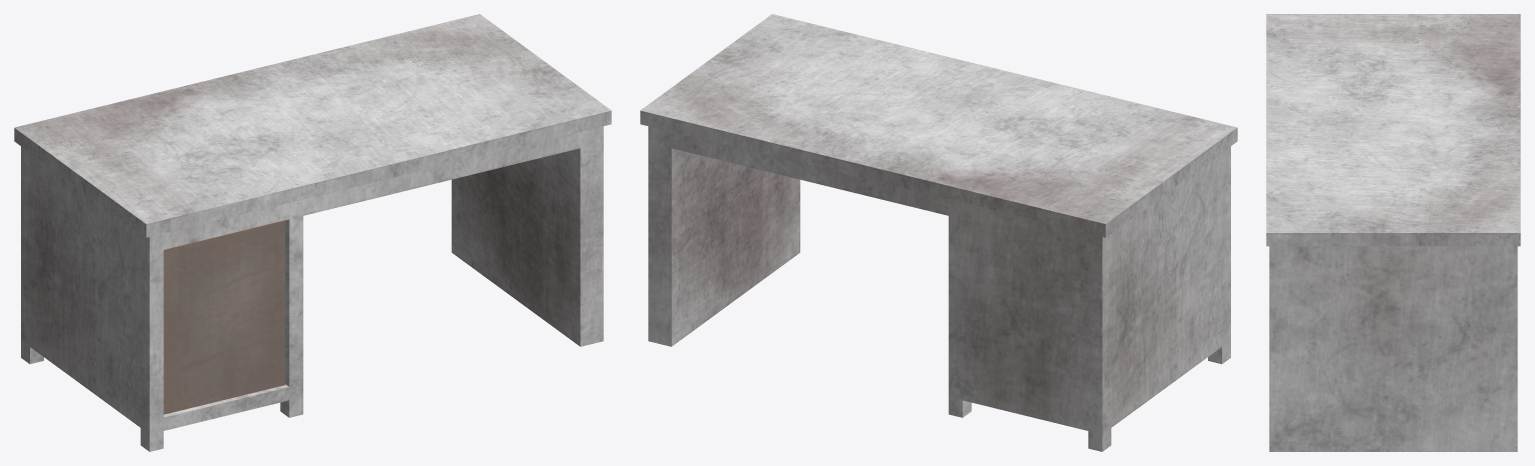
Rendered from Table.fbx.
3 views of the same model, side by side, from view 1: azimuth 30°, elevation 25°; view 2: azimuth 150°, elevation 25°; view 3: azimuth 270°, elevation 25° (orthographic). The views are drawn at different scales.
Visible parts, largest first — view 1: table, door; view 2: table; view 3: table.
Part boxes in pixels (<box>): table: <box>14,14,611,451</box>; door: <box>163,220,285,414</box>; table: <box>640,14,1237,451</box>; table: <box>1266,14,1520,451</box>.
Bounding box in the file's own units: 303 × 143 × 149.
